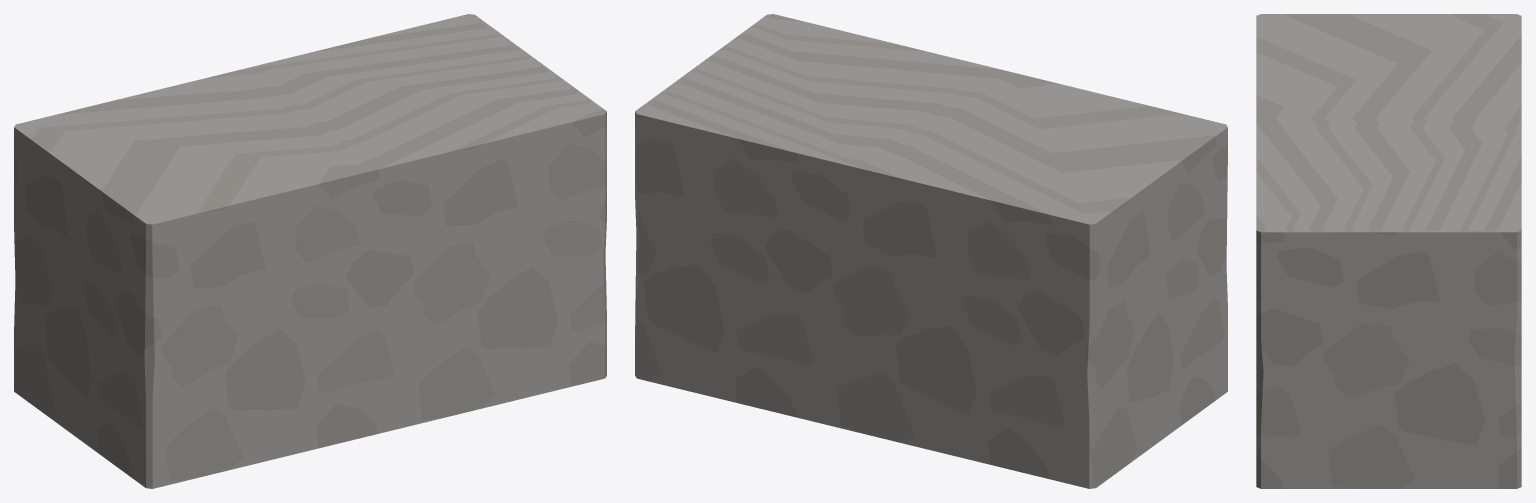
File: LightStoneBuildingLargeChaletFloor1.fbx
The picture shows the model from 3 angles, left to right: view 1: azimuth 30°, elevation 25°; view 2: azimuth 150°, elevation 25°; view 3: azimuth 270°, elevation 25°; orthographic projection. The views are drawn at different scales.
Visible parts, largest first — view 1: LightStoneBuildingLargeChaletFloor1; view 2: LightStoneBuildingLargeChaletFloor1; view 3: LightStoneBuildingLargeChaletFloor1.
Part boxes in pixels (x1,y1,x2,y2): LightStoneBuildingLargeChaletFloor1: (14,14,606,488); LightStoneBuildingLargeChaletFloor1: (635,14,1227,488); LightStoneBuildingLargeChaletFloor1: (1256,14,1521,488).
Bounding box in the file's own units: 818 × 449 × 420.
